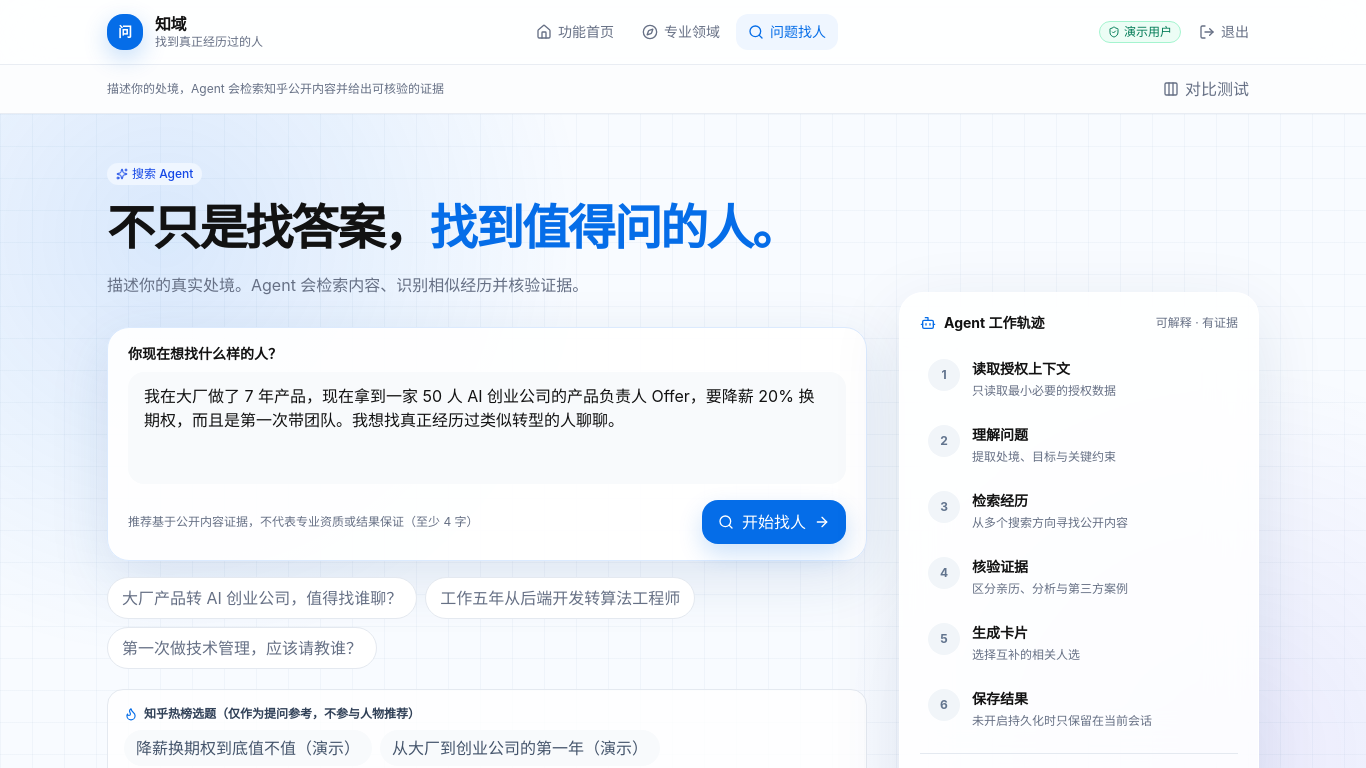
Scenario: 首页搜索交互 › 搜索失败展示错误条与重试按钮
The width and height of the screenshot is (1366, 768).
Click the button "开始找人".
click(774, 522)  # box [702,500,846,544]
(page scrolled)
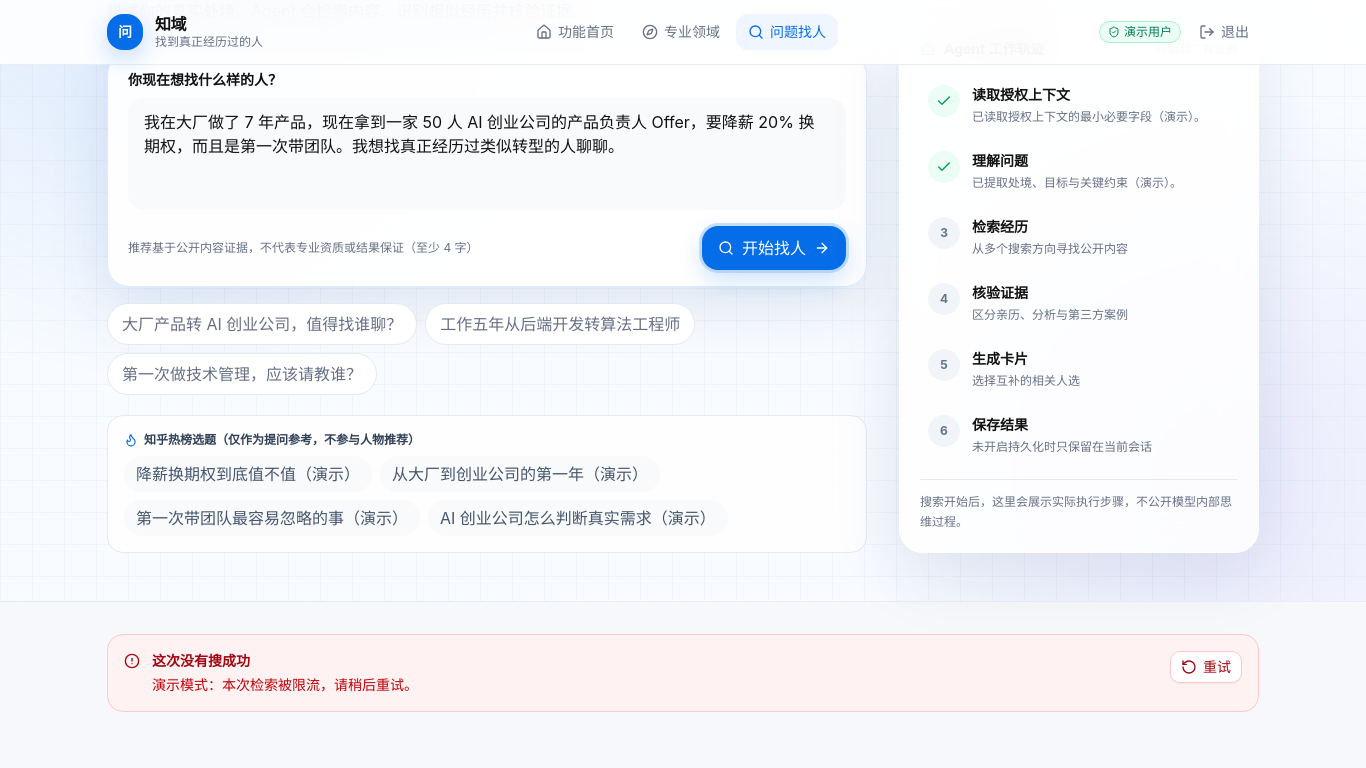
Check: the text "这次没有搜成功" is shown, box [152,652,250,669]
Check: the button "重试" is shown, box [1170,651,1242,683]
